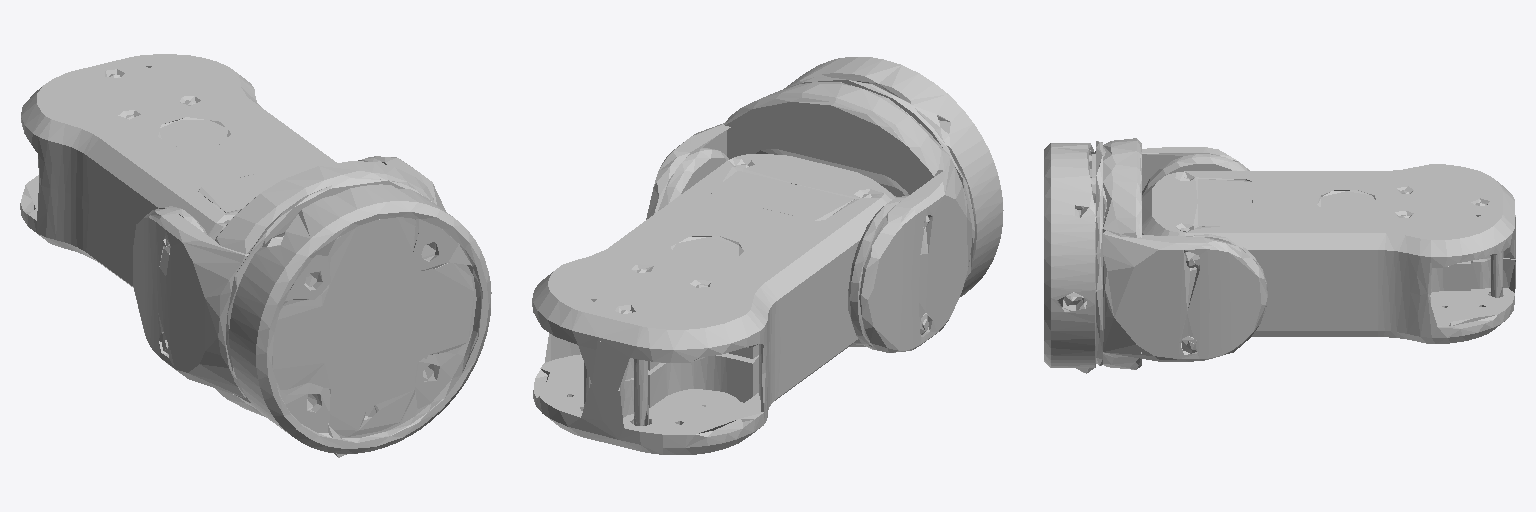
robot.urdf — ur3e_robot:
<?xml version="1.0" ?>
<!-- =================================================================================== -->
<!-- |    This document was autogenerated by xacro from ur3e.xacro                     | -->
<!-- |    EDITING THIS FILE BY HAND IS NOT RECOMMENDED                                 | -->
<!-- =================================================================================== -->
<robot name="ur3e_robot">
  <!--
    Base UR robot series xacro macro.

    NOTE: this is NOT a URDF. It cannot directly be loaded by consumers
    expecting a flattened '.urdf' file. See the top-level '.xacro' for that
    (but note: that .xacro must still be processed by the xacro command).

    For use in '.launch' files: use one of the 'load_urX.launch' convenience
    launch files.

    This file models the base kinematic chain of a UR robot, which then gets
    parameterised by various configuration files to convert it into a UR3(e),
    UR5(e), UR10(e) or UR16e.

    NOTE: the default kinematic parameters (ie: link lengths, frame locations,
    offets, etc) do not correspond to any particular robot. They are defaults
    only. There WILL be non-zero offsets between the Forward Kinematics results
    in TF (ie: robot_state_publisher) and the values reported by the Teach
    Pendant.

    For accurate (and robot-specific) transforms, the 'kinematics_parameters_file'
    parameter MUST point to a .yaml file containing the appropriate values for
    the targetted robot.

    If using the UniversalRobots/Universal_Robots_ROS_Driver, follow the steps
    described in the readme of that repository to extract the kinematic
    calibration from the controller and generate the required .yaml file.

    Main author of the migration to yaml configs: [author].

    Contributors to previous versions (in no particular order):

     - [author]
     - [author]
     - [author]
     - [author]
     - [author]
     - [author]
     - [author]
     - [author]
     - [author]
     - [author]
     - [author]
     - [author]
     - [author]
     - [author]
     - [author]
     - [author]
     - [author]
  -->
  <!--
    NOTE: the macro defined in this file is NOT part of the public API of this
          package. Users CANNOT rely on this file being available, or stored in
          this location. Nor can they rely on the existence of the macro.
  -->
  <!-- links: main serial chain -->
  <link name="base_link"/>
  <link name="base_link_inertia">
    <visual>
      <origin rpy="0 0 3.141592653589793" xyz="0 0 0"/>
      <geometry>
        <mesh filename="ur3e_rg2/meshes/visual/base.dae"/>
      </geometry>
      <material name="LightGrey">
        <color rgba="0.7 0.7 0.7 1.0"/>
      </material>
    </visual>
    <collision>
      <origin rpy="0 0 3.141592653589793" xyz="0 0 0"/>
      <geometry>
        <mesh filename="ur3e_rg2/meshes/visual/base.dae"/>
      </geometry>
    </collision>
    <inertial>
      <mass value="2.0"/>
      <origin rpy="0 0 0" xyz="0 0 0"/>
      <inertia ixx="0.0030531654454" ixy="0.0" ixz="0.0" iyy="0.0030531654454" iyz="0.0" izz="0.005625"/>
    </inertial>
  </link>
  <link name="shoulder_link">
    <visual>
      <origin rpy="0 0 3.141592653589793" xyz="0 0 0"/>
      <geometry>
        <mesh filename="ur3e_rg2/meshes/visual/shoulder.dae"/>
      </geometry>
      <material name="LightGrey">
        <color rgba="0.7 0.7 0.7 1.0"/>
      </material>
    </visual>
    <collision>
      <origin rpy="0 0 3.141592653589793" xyz="0 0 0"/>
      <geometry>
        <mesh filename="ur3e_rg2/meshes/visual/shoulder.dae"/>
      </geometry>
    </collision>
    <inertial>
      <mass value="2.0"/>
      <origin rpy="0 0 0" xyz="0 0 0"/>
      <inertia ixx="0.008093163429399999" ixy="0.0" ixz="0.0" iyy="0.008093163429399999" iyz="0.0" izz="0.005625"/>
    </inertial>
  </link>
  <link name="upper_arm_link">
    <visual>
      <origin rpy="1.5707963267948966 0 -1.5707963267948966" xyz="0 0 0.12"/>
      <geometry>
        <mesh filename="ur3e_rg2/meshes/visual/upperarm.dae"/>
      </geometry>
      <material name="LightGrey">
        <color rgba="0.7 0.7 0.7 1.0"/>
      </material>
    </visual>
    <collision>
      <origin rpy="1.5707963267948966 0 -1.5707963267948966" xyz="0 0 0.12"/>
      <geometry>
        <mesh filename="ur3e_rg2/meshes/visual/upperarm.dae"/>
      </geometry>
    </collision>
    <inertial>
      <mass value="3.42"/>
      <origin rpy="0 1.5707963267948966 0" xyz="-0.121825 0.0 0.12"/>
      <inertia ixx="0.021728483221103233" ixy="0.0" ixz="0.0" iyy="0.021728483221103233" iyz="0.0" izz="0.00961875"/>
    </inertial>
  </link>
  <link name="forearm_link">
    <visual>
      <origin rpy="1.5707963267948966 0 -1.5707963267948966" xyz="0 0 0.027"/>
      <geometry>
        <mesh filename="ur3e_rg2/meshes/visual/forearm.dae"/>
      </geometry>
      <material name="LightGrey">
        <color rgba="0.7 0.7 0.7 1.0"/>
      </material>
    </visual>
    <collision>
      <origin rpy="1.5707963267948966 0 -1.5707963267948966" xyz="0 0 0.027"/>
      <geometry>
        <mesh filename="ur3e_rg2/meshes/visual/forearm.dae"/>
      </geometry>
    </collision>
    <inertial>
      <mass value="1.26"/>
      <origin rpy="0 1.5707963267948966 0" xyz="-0.1066 0.0 0.027"/>
      <inertia ixx="0.0065445675821719194" ixy="0.0" ixz="0.0" iyy="0.0065445675821719194" iyz="0.0" izz="0.00354375"/>
    </inertial>
  </link>
  <link name="wrist_1_link">
    <visual>
      <!-- TODO: Move this to a parameter -->
      <origin rpy="1.5707963267948966 0 0" xyz="0 0 -0.104"/>
      <geometry>
        <mesh filename="ur3e_rg2/meshes/visual/wrist1.dae"/>
      </geometry>
      <material name="LightGrey">
        <color rgba="0.7 0.7 0.7 1.0"/>
      </material>
    </visual>
    <collision>
      <origin rpy="1.5707963267948966 0 0" xyz="0 0 -0.104"/>
      <geometry>
        <mesh filename="ur3e_rg2/meshes/visual/wrist1.dae"/>
      </geometry>
    </collision>
    <inertial>
      <mass value="0.8"/>
      <origin rpy="0 0 0" xyz="0 0 0"/>
      <inertia ixx="0.002084999166" ixy="0.0" ixz="0.0" iyy="0.002084999166" iyz="0.0" izz="0.00225"/>
    </inertial>
  </link>
  <link name="wrist_2_link">
    <visual>
      <origin rpy="0 0 0" xyz="0 0 -0.08535"/>
      <geometry>
        <mesh filename="ur3e_rg2/meshes/visual/wrist2.dae"/>
      </geometry>
      <material name="LightGrey">
        <color rgba="0.7 0.7 0.7 1.0"/>
      </material>
    </visual>
    <collision>
      <origin rpy="0 0 0" xyz="0 0 -0.08535"/>
      <geometry>
        <mesh filename="ur3e_rg2/meshes/visual/wrist2.dae"/>
      </geometry>
    </collision>
    <inertial>
      <mass value="0.8"/>
      <origin rpy="0 0 0" xyz="0 0 0"/>
      <inertia ixx="0.002084999166" ixy="0.0" ixz="0.0" iyy="0.002084999166" iyz="0.0" izz="0.00225"/>
    </inertial>
  </link>
  <link name="wrist_3_link">
    <visual>
      <origin rpy="1.5707963267948966 0 0" xyz="0 0 -0.0921"/>
      <geometry>
        <mesh filename="ur3e_rg2/meshes/visual/wrist3.dae"/>
      </geometry>
      <material name="LightGrey">
        <color rgba="0.7 0.7 0.7 1.0"/>
      </material>
    </visual>
    <collision>
      <origin rpy="1.5707963267948966 0 0" xyz="0 0 -0.0921"/>
      <geometry>
        <mesh filename="ur3e_rg2/meshes/visual/wrist3.dae"/>
      </geometry>
    </collision>
    <inertial>
      <mass value="0.35"/>
      <origin rpy="0 0 0" xyz="0.0 0.0 -0.02"/>
      <inertia ixx="0.00013626661215999998" ixy="0.0" ixz="0.0" iyy="0.00013626661215999998" iyz="0.0" izz="0.0001792"/>
    </inertial>
  </link>
  <!-- joints: main serial chain -->
  <joint name="base_link-base_link_inertia" type="fixed">
    <parent link="base_link"/>
    <child link="base_link_inertia"/>
    <!-- 'base_link' is REP-103 aligned (so X+ forward), while the internal
           frames of the robot/controller have X+ pointing backwards.
           Use the joint between 'base_link' and 'base_link_inertia' (a dummy
           link/frame) to introduce the necessary rotation over Z (of pi rad).
      -->
    <origin rpy="0 0 3.141592653589793" xyz="0 0 0"/>
  </joint>
  <joint name="shoulder_pan_joint" type="revolute">
    <parent link="base_link_inertia"/>
    <child link="shoulder_link"/>
    <origin rpy="0 0 0" xyz="0 0 0.15185"/>
    <axis xyz="0 0 1"/>
    <limit effort="56.0" lower="-6.283185307179586" upper="6.283185307179586" velocity="3.141592653589793"/>
    <dynamics damping="0" friction="0"/>
  </joint>
  <joint name="shoulder_lift_joint" type="revolute">
    <parent link="shoulder_link"/>
    <child link="upper_arm_link"/>
    <origin rpy="1.570796327 0 0" xyz="0 0 0"/>
    <axis xyz="0 0 1"/>
    <limit effort="56.0" lower="-6.283185307179586" upper="6.283185307179586" velocity="3.141592653589793"/>
    <dynamics damping="0" friction="0"/>
  </joint>
  <joint name="elbow_joint" type="revolute">
    <parent link="upper_arm_link"/>
    <child link="forearm_link"/>
    <origin rpy="0 0 0" xyz="-0.24355 0 0"/>
    <axis xyz="0 0 1"/>
    <limit effort="28.0" lower="-3.141592653589793" upper="3.141592653589793" velocity="3.141592653589793"/>
    <dynamics damping="0" friction="0"/>
  </joint>
  <joint name="wrist_1_joint" type="revolute">
    <parent link="forearm_link"/>
    <child link="wrist_1_link"/>
    <origin rpy="0 0 0" xyz="-0.2132 0 0.13105"/>
    <axis xyz="0 0 1"/>
    <limit effort="12.0" lower="-6.283185307179586" upper="6.283185307179586" velocity="6.283185307179586"/>
    <dynamics damping="0" friction="0"/>
  </joint>
  <joint name="wrist_2_joint" type="revolute">
    <parent link="wrist_1_link"/>
    <child link="wrist_2_link"/>
    <origin rpy="1.570796327 0 0" xyz="0 -0.08535 -1.750557762378351e-11"/>
    <axis xyz="0 0 1"/>
    <limit effort="12.0" lower="-6.283185307179586" upper="6.283185307179586" velocity="6.283185307179586"/>
    <dynamics damping="0" friction="0"/>
  </joint>
  <joint name="wrist_3_joint" type="revolute">
    <parent link="wrist_2_link"/>
    <child link="wrist_3_link"/>
    <origin rpy="1.570796326589793 3.141592653589793 3.141592653589793" xyz="0 0.0921 -1.8890025766262e-11"/>
    <axis xyz="0 0 1"/>
    <limit effort="12.0" lower="-6.283185307179586" upper="6.283185307179586" velocity="6.283185307179586"/>
    <dynamics damping="0" friction="0"/>
  </joint>
  <!-- ROS-Industrial 'base' frame: base_link to UR 'Base' Coordinates transform -->
  <link name="base"/>
  <joint name="base_link-base_fixed_joint" type="fixed">
    <!-- Note the rotation over Z of pi radians: as base_link is REP-103
           aligned (ie: has X+ forward, Y+ left and Z+ up), this is needed
           to correctly align 'base' with the 'Base' coordinate system of
           the UR controller.
      -->
    <origin rpy="0 0 3.141592653589793" xyz="0 0 0"/>
    <parent link="base_link"/>
    <child link="base"/>
  </joint>
  <!-- ROS-Industrial 'tool0' frame: all-zeros tool frame -->
  <link name="tool0"/>
  <joint name="wrist_3-tool" type="fixed">
    <parent link="wrist_3_link"/>
    <child link="tool0"/>
    <origin rpy="0 -1.5707963267948966 -1.5707963267948966" xyz="0 0 0"/>
  </joint>
  <joint name="joint0" type="fixed">
    <parent link="tool0"/>
    <child link="onrobot_rg2_base_link"/>
    <origin rpy="0.0 1.5707963267948966 0.0" xyz="0. 0. 0."/>
  </joint>
  <link name="onrobot_rg2_base_link">
    <inertial>
      <origin rpy="0 0 0" xyz="0.0 0.0 0.0"/>
      <mass value="0.7"/>
      <inertia ixx="1.0E-03" ixy="1.0E-06" ixz="1.0E-06" iyy="1.0E-03" iyz="1.0E-06" izz="1.0E-03"/>
    </inertial>
    <visual>
      <origin rpy="0 0 0" xyz="0 0 0"/>
      <geometry>
        <mesh filename="ur3e_rg2/meshes/visual/base_link.dae"/>
      </geometry>
      <material name="rg2_grey">
        <color rgba="0.8 0.8 0.8 1"/>
      </material>
    </visual>
    <collision>
      <origin rpy="0 0 0" xyz="0 0 0"/>
      <geometry>
        <mesh filename="ur3e_rg2/meshes/visual/base_link.dae"/>
      </geometry>
    </collision>
  </link>
  <link name="left_outer_knuckle">
    <inertial>
      <origin rpy="0 0 0" xyz="0.0 0.0 0.0"/>
      <mass value="0.05"/>
      <inertia ixx="1.0E-03" ixy="1.0E-06" ixz="1.0E-06" iyy="1.0E-03" iyz="1.0E-06" izz="1.0E-03"/>
    </inertial>
    <visual>
      <origin rpy="0 0 0" xyz="0 0 0"/>
      <geometry>
        <mesh filename="ur3e_rg2/meshes/visual/outer_knuckle.stl"/>
      </geometry>
      <material name="rg2_grey">
        <color rgba="0.8 0.8 0.8 1"/>
      </material>
    </visual>
    <collision>
      <origin rpy="0 0 0" xyz="0 0 0"/>
      <geometry>
        <mesh filename="ur3e_rg2/meshes/visual/outer_knuckle.stl"/>
      </geometry>
    </collision>
  </link>
  <link name="left_inner_knuckle">
    <inertial>
      <origin rpy="0 0 0" xyz="0.0 0.0 0.0"/>
      <mass value="0.05"/>
      <inertia ixx="1.0E-03" ixy="1.0E-06" ixz="1.0E-06" iyy="1.0E-03" iyz="1.0E-06" izz="1.0E-03"/>
    </inertial>
    <visual>
      <origin rpy="0 0 0" xyz="0 0 0"/>
      <geometry>
        <mesh filename="ur3e_rg2/meshes/visual/inner_knuckle.stl"/>
      </geometry>
      <material name="rg2_grey">
        <color rgba="0.8 0.8 0.8 1"/>
      </material>
    </visual>
    <collision>
      <origin rpy="0 0 0" xyz="0 0 0"/>
      <geometry>
        <mesh filename="ur3e_rg2/meshes/visual/inner_knuckle.stl"/>
      </geometry>
    </collision>
  </link>
  <link name="left_inner_finger">
    <inertial>
      <origin rpy="0 0 0" xyz="0.0 0.0 0.0"/>
      <mass value="0.05"/>
      <inertia ixx="1.0E-03" ixy="1.0E-06" ixz="1.0E-06" iyy="1.0E-03" iyz="1.0E-06" izz="1.0E-03"/>
    </inertial>
    <visual>
      <origin rpy="0 0 0" xyz="0 0 0"/>
      <geometry>
        <mesh filename="ur3e_rg2/meshes/visual/inner_finger.stl"/>
      </geometry>
      <material name="rg2_black">
        <color rgba="0.1 0.1 0.1 1"/>
      </material>
    </visual>
    <collision>
      <origin rpy="0 0 0" xyz="0 0 0"/>
      <geometry>
        <mesh filename="ur3e_rg2/meshes/visual/inner_finger.stl"/>
      </geometry>
    </collision>
  </link>
  <link name="right_outer_knuckle">
    <inertial>
      <origin rpy="0 0 0" xyz="0.0 0.0 0.0"/>
      <mass value="0.05"/>
      <inertia ixx="1.0E-03" ixy="1.0E-06" ixz="1.0E-06" iyy="1.0E-03" iyz="1.0E-06" izz="1.0E-03"/>
    </inertial>
    <visual>
      <origin rpy="0 0 0" xyz="0 0 0"/>
      <geometry>
        <mesh filename="ur3e_rg2/meshes/visual/outer_knuckle.stl"/>
      </geometry>
      <material name="rg2_grey">
        <color rgba="0.8 0.8 0.8 1"/>
      </material>
    </visual>
    <collision>
      <origin rpy="0 0 0" xyz="0 0 0"/>
      <geometry>
        <mesh filename="ur3e_rg2/meshes/visual/outer_knuckle.stl"/>
      </geometry>
    </collision>
  </link>
  <link name="right_inner_knuckle">
    <inertial>
      <origin rpy="0 0 0" xyz="0.0 0.0 0.0"/>
      <mass value="0.05"/>
      <inertia ixx="1.0E-03" ixy="1.0E-06" ixz="1.0E-06" iyy="1.0E-03" iyz="1.0E-06" izz="1.0E-03"/>
    </inertial>
    <visual>
      <origin rpy="0 0 0" xyz="0 0 0"/>
      <geometry>
        <mesh filename="ur3e_rg2/meshes/visual/inner_knuckle.stl"/>
      </geometry>
      <material name="rg2_grey">
        <color rgba="0.8 0.8 0.8 1"/>
      </material>
    </visual>
    <collision>
      <origin rpy="0 0 0" xyz="0 0 0"/>
      <geometry>
        <mesh filename="ur3e_rg2/meshes/visual/inner_knuckle.stl"/>
      </geometry>
    </collision>
  </link>
  <link name="right_inner_finger">
    <inertial>
      <origin rpy="0 0 0" xyz="0.0 0.0 0.0"/>
      <mass value="0.05"/>
      <inertia ixx="1.0E-03" ixy="1.0E-06" ixz="1.0E-06" iyy="1.0E-03" iyz="1.0E-06" izz="1.0E-03"/>
    </inertial>
    <visual>
      <origin rpy="0 0 0" xyz="0 0 0"/>
      <geometry>
        <mesh filename="ur3e_rg2/meshes/visual/inner_finger.stl"/>
      </geometry>
      <material name="rg2_black">
        <color rgba="0.1 0.1 0.1 1"/>
      </material>
    </visual>
    <collision>
      <origin rpy="0 0 0" xyz="0 0 0"/>
      <geometry>
        <mesh filename="ur3e_rg2/meshes/visual/inner_finger.stl"/>
      </geometry>
    </collision>
  </link>
  <joint name="finger_joint" type="revolute">
    <origin rpy="0 0 0" xyz="0 -0.017178 0.125797"/>
    <parent link="onrobot_rg2_base_link"/>
    <child link="left_outer_knuckle"/>
    <axis xyz="-1 0 0"/>
    <limit effort="1000" lower="-0.558505" upper="0.785398" velocity="100.0"/>
  </joint>
  <joint name="left_inner_knuckle_joint" type="revolute">
    <origin rpy="0 0 0.0" xyz="0 -0.007678 0.1422970"/>
    <parent link="onrobot_rg2_base_link"/>
    <child link="left_inner_knuckle"/>
    <axis xyz="1 0 0"/>
    <limit effort="1000" lower="-0.785398" upper="0.785398" velocity="100.0"/>
    <mimic joint="finger_joint" multiplier="-1" offset="0"/>
  </joint>
  <joint name="left_inner_finger_joint" type="revolute">
    <origin rpy="0 0 0" xyz="0 -0.039592 0.038177000000000016"/>
    <parent link="left_outer_knuckle"/>
    <child link="left_inner_finger"/>
    <axis xyz="1 0 0"/>
    <limit effort="1000" lower="-0.872665" upper="0.872665" velocity="100.0"/>
    <mimic joint="finger_joint" multiplier="1" offset="0"/>
  </joint>
  <joint name="right_outer_knuckle_joint" type="revolute">
    <origin rpy="0 0 3.141592653589793" xyz="0 0.017178 0.125797"/>
    <parent link="onrobot_rg2_base_link"/>
    <child link="right_outer_knuckle"/>
    <axis xyz="1 0 0"/>
    <limit effort="1000" lower="-0.785398" upper="0.785398" velocity="100.0"/>
    <mimic joint="finger_joint" multiplier="-1" offset="0"/>
  </joint>
  <joint name="right_inner_knuckle_joint" type="revolute">
    <origin rpy="0 0 -3.141592653589793" xyz="0 0.007678 0.1422970"/>
    <parent link="onrobot_rg2_base_link"/>
    <child link="right_inner_knuckle"/>
    <axis xyz="1 0 0"/>
    <limit effort="1000" lower="-0.785398" upper="0.785398" velocity="100.0"/>
    <mimic joint="finger_joint" multiplier="-1" offset="0"/>
  </joint>
  <joint name="right_inner_finger_joint" type="revolute">
    <origin rpy="0 0 0" xyz="0 -0.039592 0.038177000000000016"/>
    <parent link="right_outer_knuckle"/>
    <child link="right_inner_finger"/>
    <axis xyz="1 0 0"/>
    <limit effort="1000" lower="-0.872665" upper="0.872665" velocity="100.0"/>
    <mimic joint="finger_joint" multiplier="1" offset="0"/>
  </joint>
</robot>

--- What the picture shows (computed from the rendered views, not written in the file) ---
3 views of the same robot in one strip: view 1: azimuth 30°, elevation 25°; view 2: azimuth 150°, elevation 25°; view 3: azimuth 270°, elevation 25° (orthographic).
Model ur3e_robot with 17 links and 16 joints (12 revolute, 4 fixed), rooted at base_link, posed every joint at zero.
Visible links, largest first — view 1: onrobot_rg2_base_link; view 2: onrobot_rg2_base_link; view 3: onrobot_rg2_base_link.
Boxes of the visible links, x1,y1,x2,y2 form: onrobot_rg2_base_link: [20, 54, 491, 457]; onrobot_rg2_base_link: [532, 57, 1003, 454]; onrobot_rg2_base_link: [1044, 138, 1515, 373].
Bounding box of the posed robot: 0.0763 × 0.148 × 0.0751 m (x, y, z).
Meshes: 11 distinct files referenced, 1 mesh visuals loaded (1 Collada DAE); not drawn: 13 (reference not matched to a file when rendering).